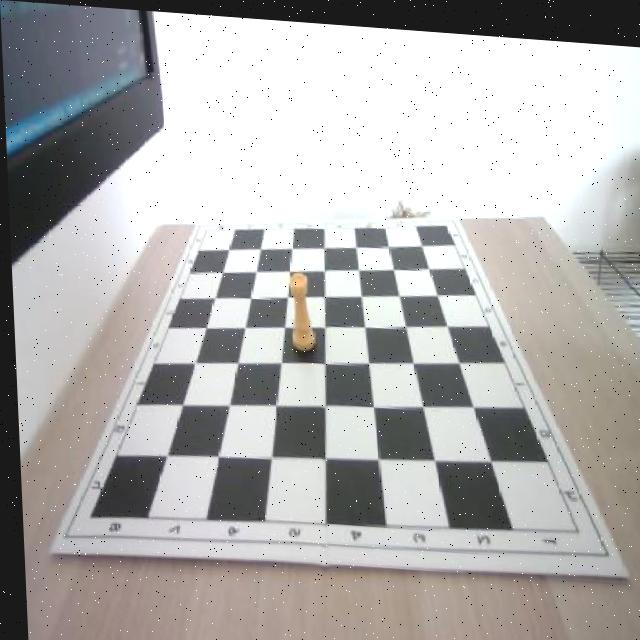white-queen: (288, 265, 314, 347)
